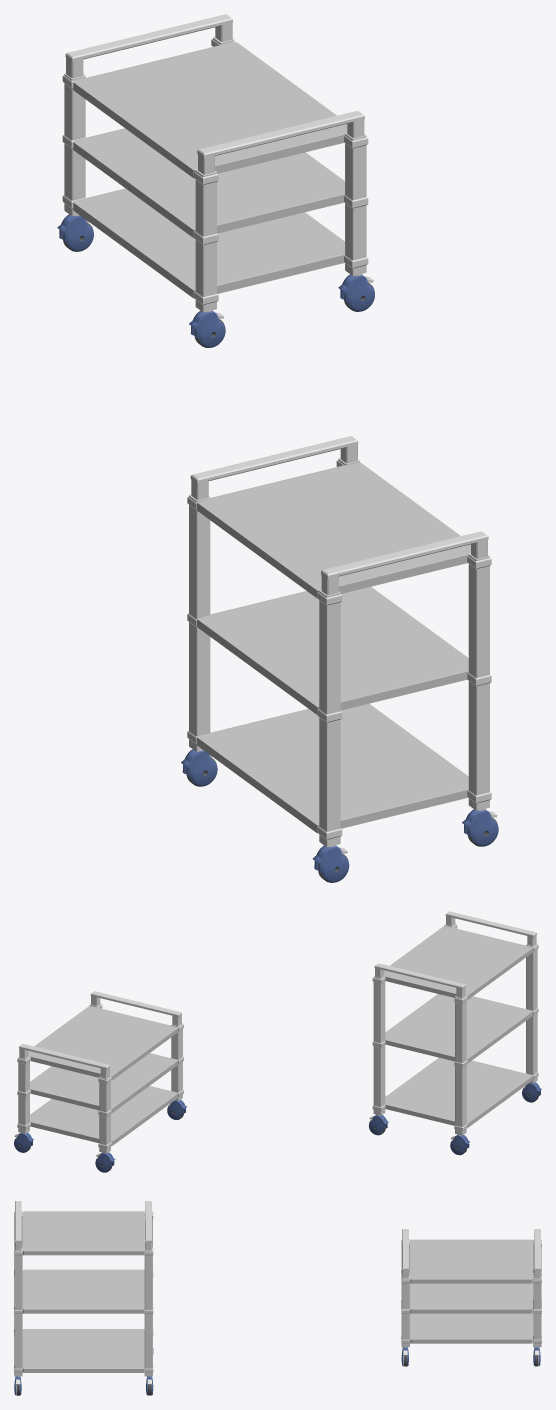
File: shelvesmetal.fbx
3 views of the same model, one above another, from view 1: azimuth 30°, elevation 25°; view 2: azimuth 150°, elevation 25°; view 3: azimuth 270°, elevation 25° (orthographic). The views are drawn at different scales.
Parts seen in each view (by area): view 1: Cube.024, Cube.000, Cube.001, Cube.002, Cube.004, Cube.012, Cube.014, Cube.003, Cube.019, Cube.023, Cube.017, Cube.015 (+7 smaller); view 2: Cube.024, Cube.000, Cube.001, Cube.002, Cube.003, Cube.012, Cube.014, Cube.004, Cube.017, Cube.018, Cube.019, Cube.015 (+1 smaller); view 3: Cube.000, Cube.024, Cube.002, Cube.001, Cube.014, Cube.012, Cube.003, Cube.004, Cube.023, Cube.018, Cube.016, Cube.015.
Boxes of the visible parts, x1,y1,x2,y2 form: Cube.024: (73,42,347,178); Cube.000: (197,462,470,598); Cube.001: (197,703,468,833); Cube.002: (197,587,468,714); Cube.004: (317,531,491,847); Cube.012: (73,188,344,298); Cube.014: (73,128,344,237); Cube.003: (187,436,359,751); Cube.019: (194,169,218,312); Cube.023: (344,133,368,275); Cube.017: (62,73,86,215); Cube.015: (65,14,232,78); Cube.024: (28,1006,177,1080); Cube.000: (384,926,532,999); Cube.001: (385,1057,532,1128); Cube.002: (385,994,532,1063); Cube.003: (372,963,467,1135); Cube.012: (30,1086,177,1145); Cube.014: (30,1053,177,1112); Cube.004: (444,911,538,1083); Cube.017: (98,1075,111,1153); Cube.018: (17,1056,30,1133); Cube.019: (171,1023,183,1100); Cube.015: (19,1044,110,1078); Cube.000: (22,1211,145,1255); Cube.024: (410,1239,532,1283); Cube.002: (22,1269,144,1313); Cube.001: (22,1329,144,1372); Cube.014: (410,1283,532,1313); Cube.012: (410,1313,532,1343); Cube.003: (144,1201,153,1376); Cube.004: (14,1201,22,1376); Cube.023: (401,1275,410,1347); Cube.018: (533,1275,541,1347); Cube.016: (402,1229,408,1278); Cube.015: (534,1229,540,1278).
Size of the model in its own units: 8160 by 6722 by 16750.
